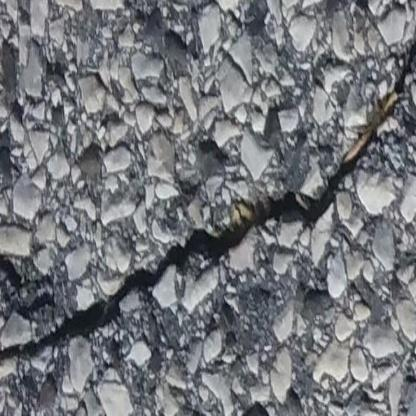Cracks: (0, 8, 416, 373)
